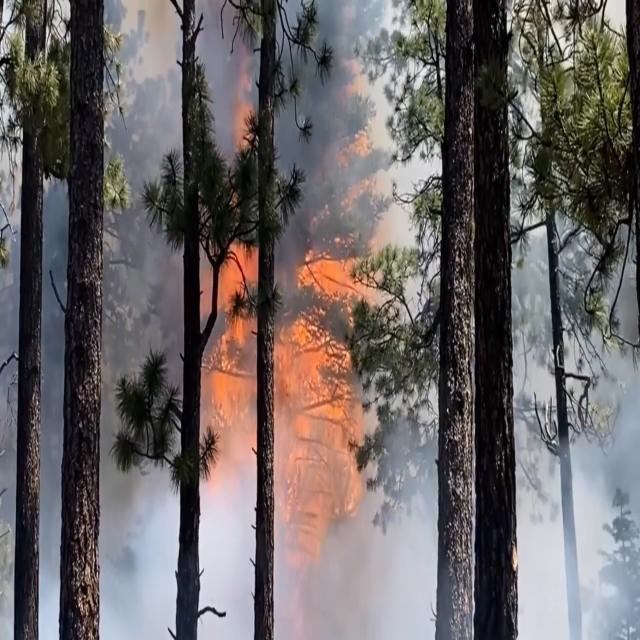Fire: (207, 56, 372, 552)
